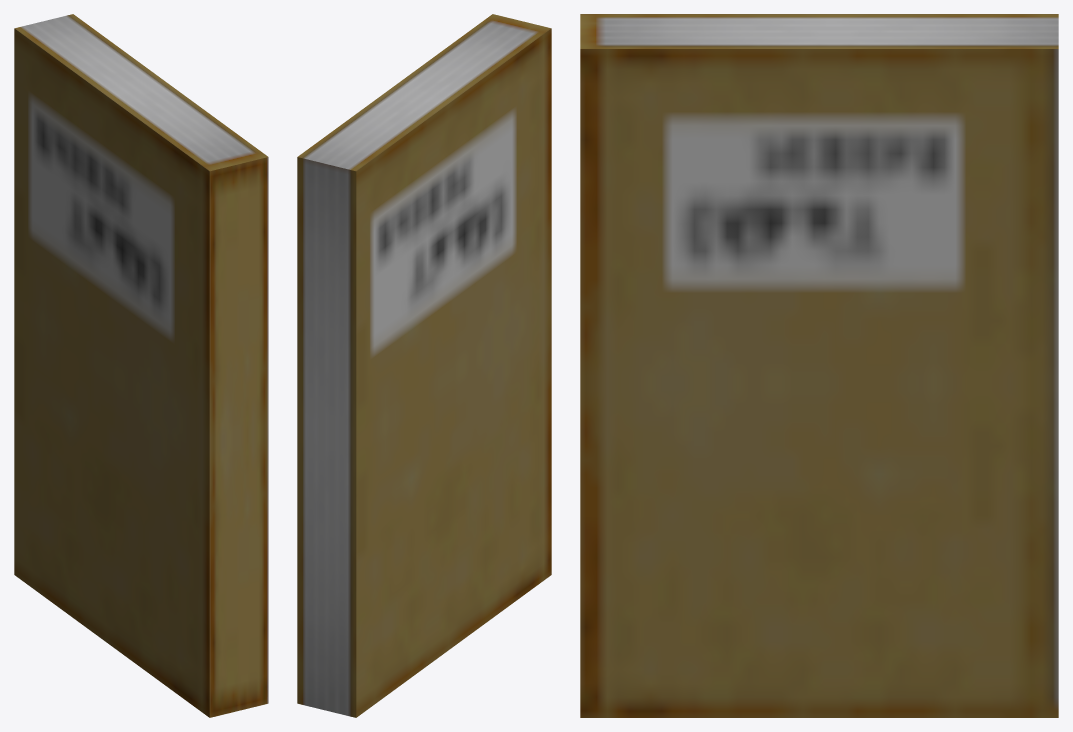
File: book_yellow.fbx
The picture shows the model from 3 angles, left to right: view 1: azimuth 30°, elevation 25°; view 2: azimuth 150°, elevation 25°; view 3: azimuth 270°, elevation 25°; orthographic projection. The views are drawn at different scales.
Parts seen in each view (by area): view 1: book_yellow; view 2: book_yellow; view 3: book_yellow.
Part boxes in pixels (x1,y1,x2,y2): book_yellow: (14, 14, 268, 717); book_yellow: (297, 14, 551, 717); book_yellow: (580, 14, 1058, 717).
Bounding box in the file's own units: 3.36 × 29.79 × 19.3.
Materials: 1 (1 with a texture image).
